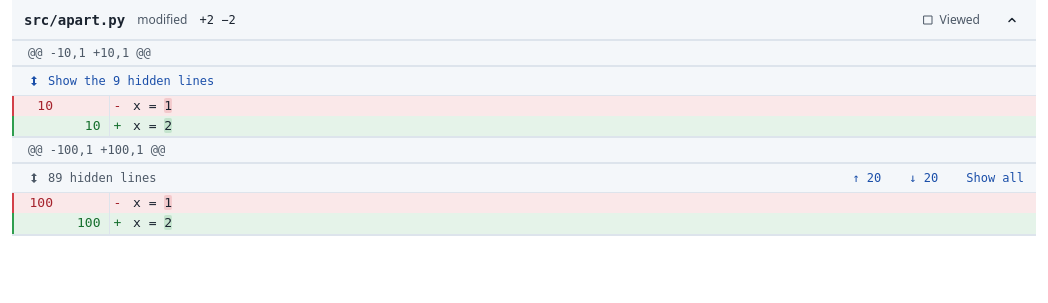
Scenario: widening the context around a hunk › reads down from the change above a gap as well as up from the change below it
Click the button with test id "expand-down". click: (924, 178)
box: [897, 164, 950, 192]
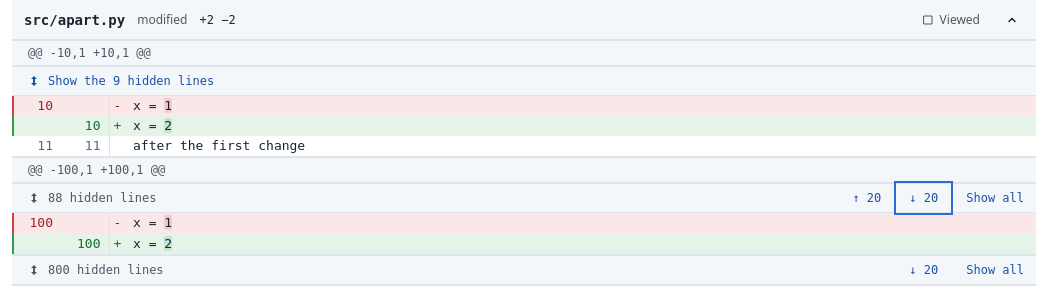
Expected: the text "after the first change" is shown, [125, 136, 1036, 156]
